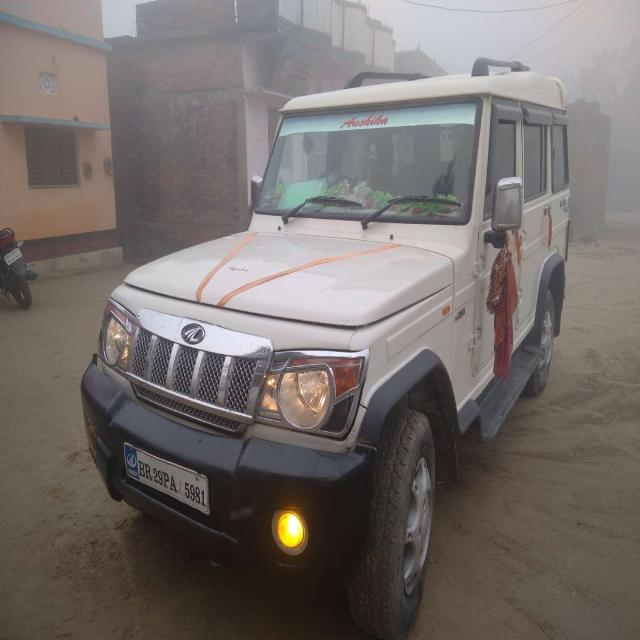light_vehicle: (87, 89, 566, 553)
